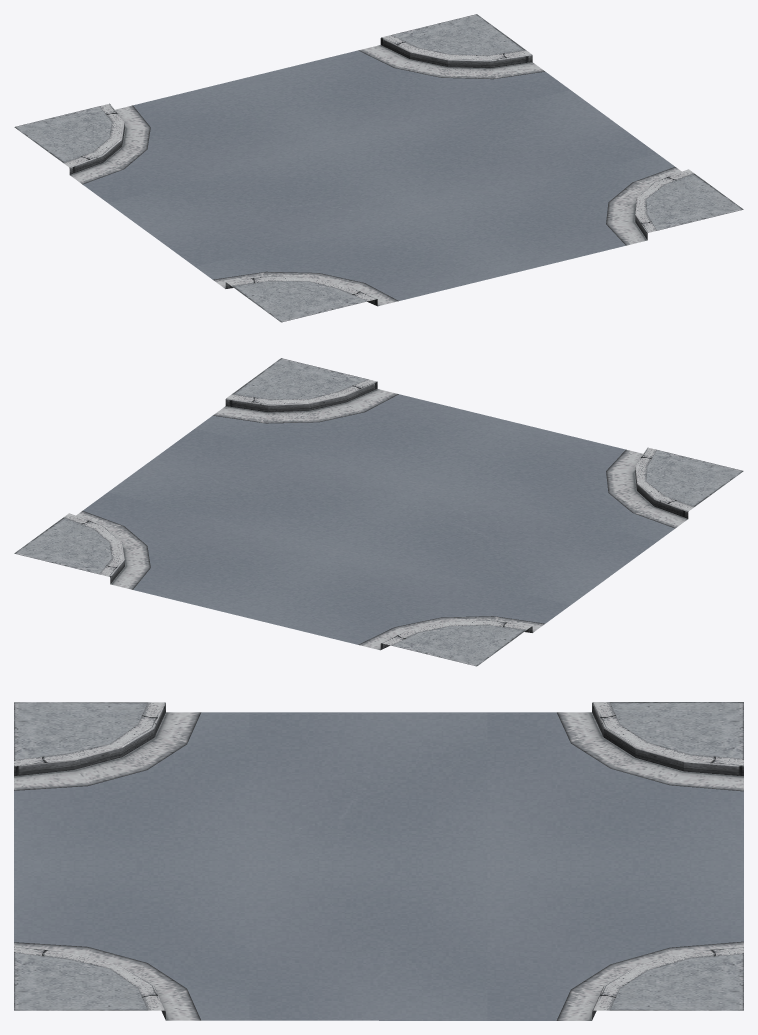
File: Road Cross.fbx
3 renders of one model, top to bottom at view 1: azimuth 30°, elevation 25°; view 2: azimuth 150°, elevation 25°; view 3: azimuth 270°, elevation 25°, orthographic. The views are drawn at different scales.
Visible parts, largest first — view 1: Road Cross; view 2: Road Cross; view 3: Road Cross.
Boxes of the visible parts, bbox=[...] form: Road Cross: bbox=[14, 14, 743, 322]; Road Cross: bbox=[14, 358, 743, 666]; Road Cross: bbox=[14, 702, 743, 1020].
Bounding box in the file's own units: 600 × 9.11 × 600.
